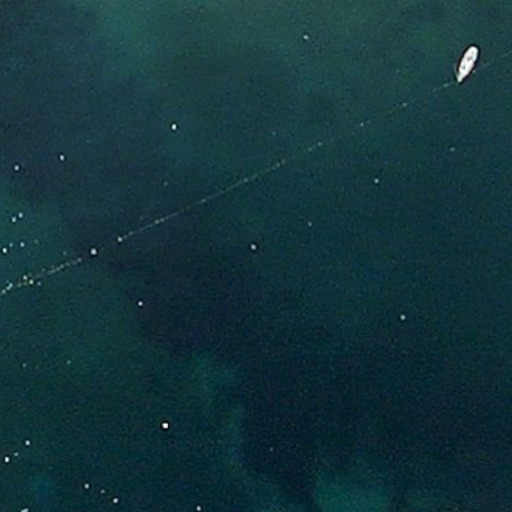ship: (452, 42, 481, 84)
